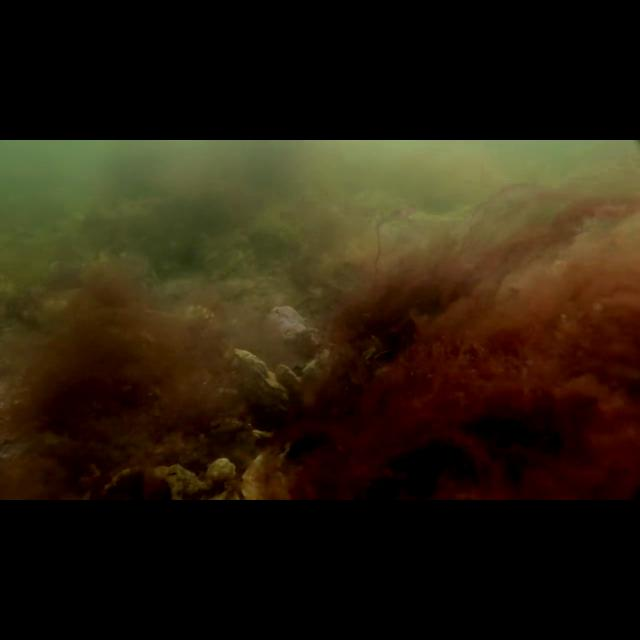Oyster-Closed: (100, 457, 244, 498), (221, 342, 293, 414)
